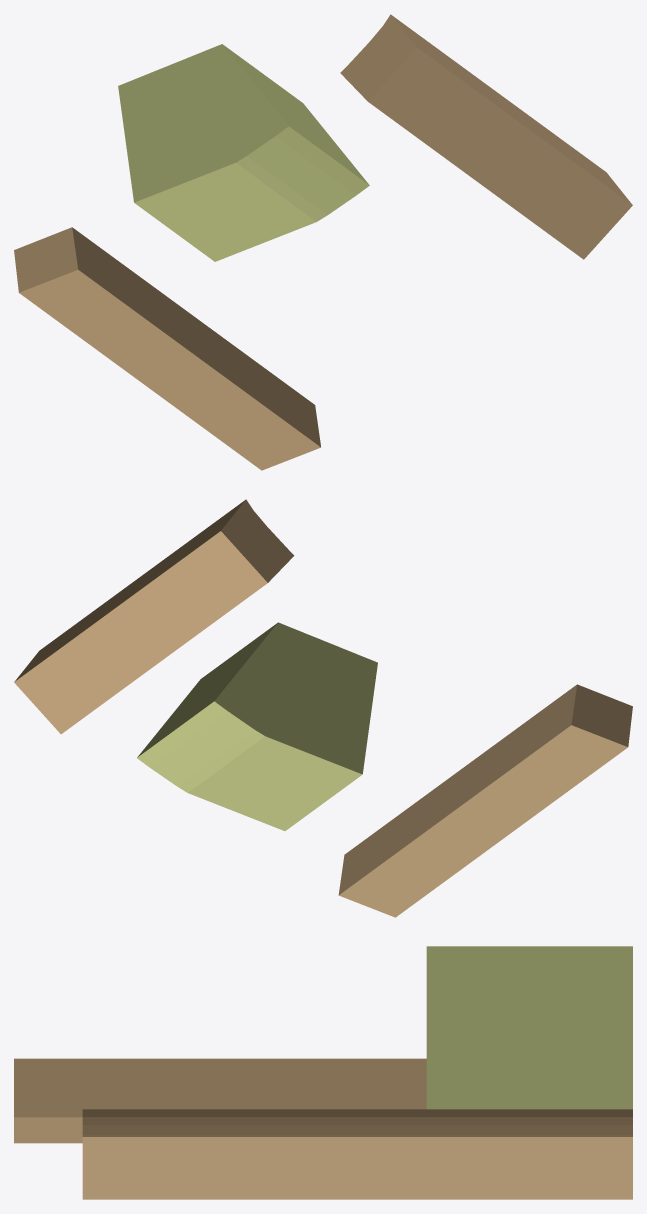
The picture shows the model from 3 angles, top to bottom: view 1: azimuth 30°, elevation 25°; view 2: azimuth 150°, elevation 25°; view 3: azimuth 270°, elevation 25°; orthographic projection. The views are drawn at different scales.
Visible parts, largest first — view 1: 0_1_3_2_1_1_2_0_0; view 2: 0_1_3_2_1_1_2_0_0; view 3: 0_1_3_2_1_1_2_0_0.
Boxes of the visible parts, left/top/right/bottom form: 0_1_3_2_1_1_2_0_0: left=14, top=14, right=632, bottom=470; 0_1_3_2_1_1_2_0_0: left=14, top=499, right=632, bottom=917; 0_1_3_2_1_1_2_0_0: left=14, top=946, right=632, bottom=1199.
Size of the model in its own units: 25.86 by 12.22 by 27.
